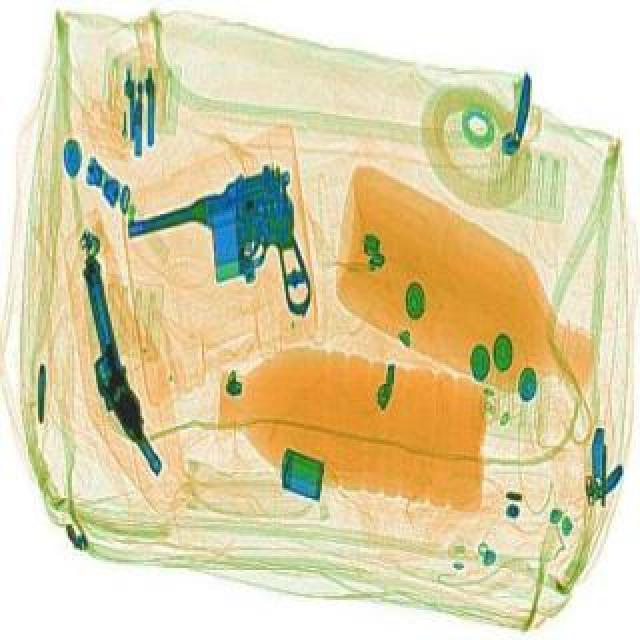gun: (118, 160, 326, 348), (66, 252, 166, 480)
